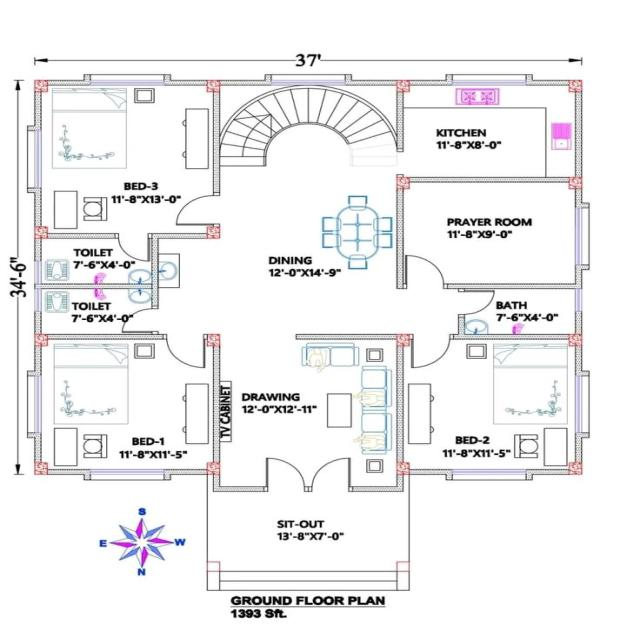Blueprint: (31, 76, 591, 496)
column: (198, 76, 227, 100), (197, 328, 226, 352), (391, 74, 415, 97), (389, 172, 416, 192), (564, 172, 588, 192), (28, 223, 52, 243), (28, 330, 53, 348), (565, 331, 587, 351), (202, 460, 226, 478), (202, 224, 224, 243), (566, 76, 586, 96), (30, 459, 52, 477), (31, 77, 51, 96), (392, 331, 412, 349), (392, 460, 412, 478), (564, 460, 586, 476)
wall: (212, 346, 221, 462), (409, 177, 569, 183), (396, 346, 404, 462), (453, 333, 569, 340), (396, 188, 404, 289), (212, 91, 220, 192), (33, 283, 153, 289), (295, 333, 397, 340), (47, 334, 163, 340), (574, 92, 582, 177), (152, 238, 160, 306), (47, 232, 115, 240), (448, 284, 582, 288), (151, 233, 208, 239), (33, 188, 42, 226), (219, 80, 273, 86), (34, 91, 42, 131), (344, 80, 397, 86), (353, 486, 403, 492), (574, 432, 583, 463), (163, 468, 208, 474), (33, 346, 42, 376), (526, 469, 570, 475), (409, 469, 453, 475), (220, 486, 264, 492), (48, 469, 92, 475), (48, 80, 91, 86), (526, 80, 569, 86), (574, 346, 582, 376), (409, 80, 453, 85), (34, 432, 41, 463), (33, 238, 42, 262), (164, 80, 207, 85), (575, 311, 583, 334), (34, 311, 42, 334), (213, 474, 220, 492), (576, 264, 582, 284), (458, 317, 465, 334), (396, 474, 404, 486)
